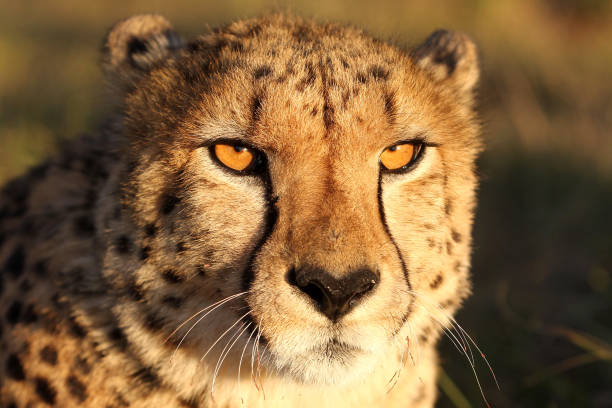cheetah: (84, 1, 538, 407)
